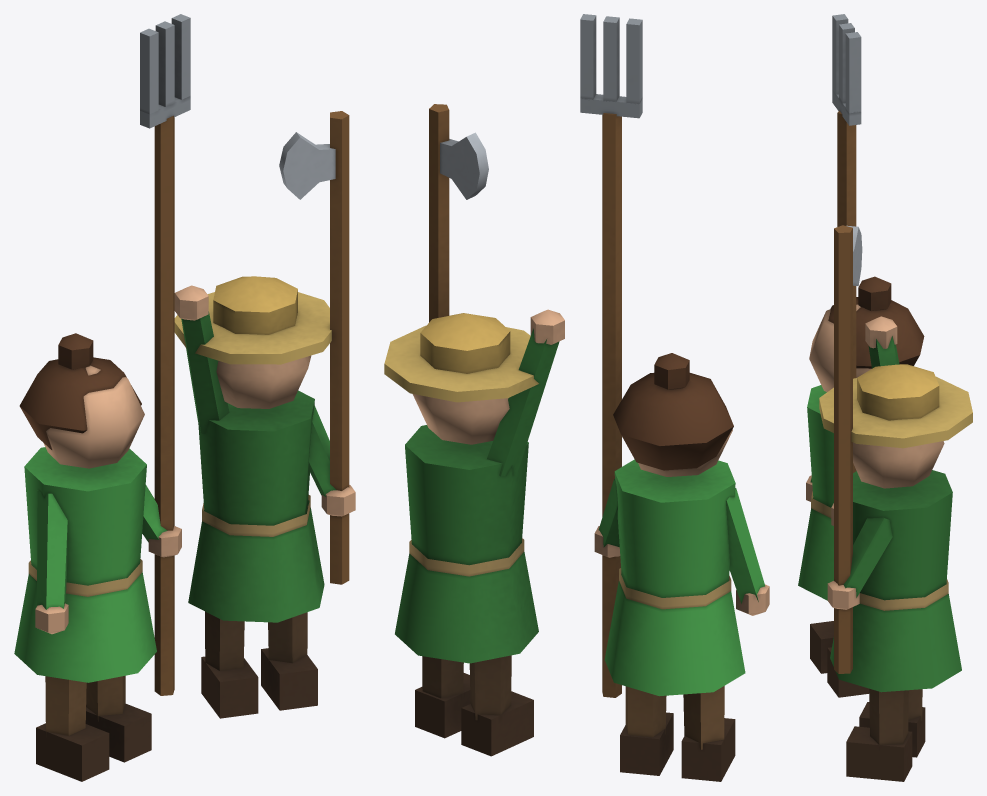
File: sentry_dl1_green.glb
3 renders of one model, left to right at view 1: azimuth 30°, elevation 25°; view 2: azimuth 150°, elevation 25°; view 3: azimuth 270°, elevation 25°, orthographic. The views are drawn at different scales.
Parts seen in each view (by area): view 1: sentry_dl1_green; view 2: sentry_dl1_green; view 3: sentry_dl1_green.
Boxes of the visible parts, x1,y1,x2,y2 form: sentry_dl1_green: (14,14,355,781); sentry_dl1_green: (384,14,769,781); sentry_dl1_green: (798,14,972,781).
Bounding box in the file's own units: 0.3242 × 0.6736 × 0.1571.
1 material, 1 textured.
